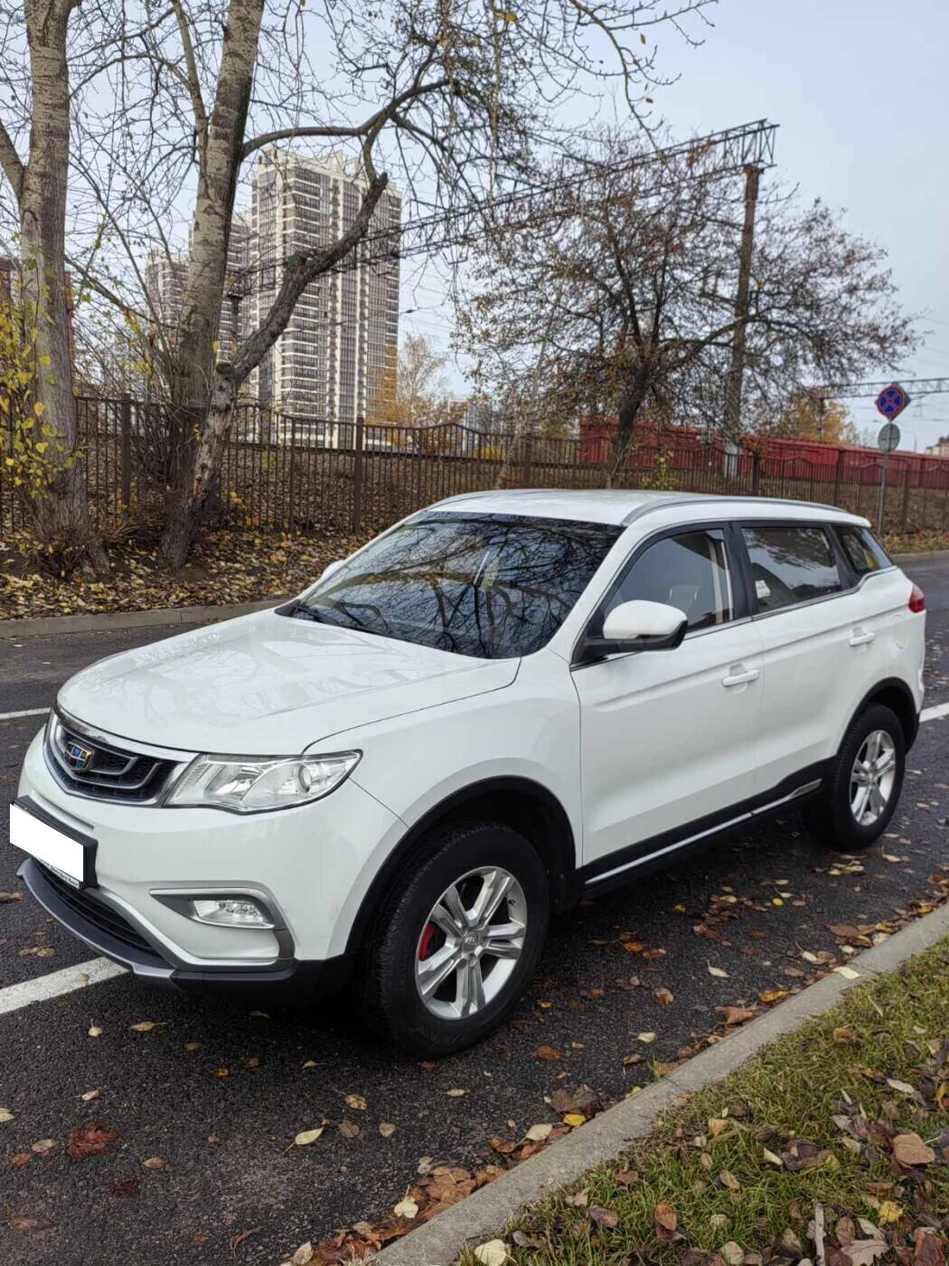Atlas_2016-2023: (11, 477, 929, 1071)
